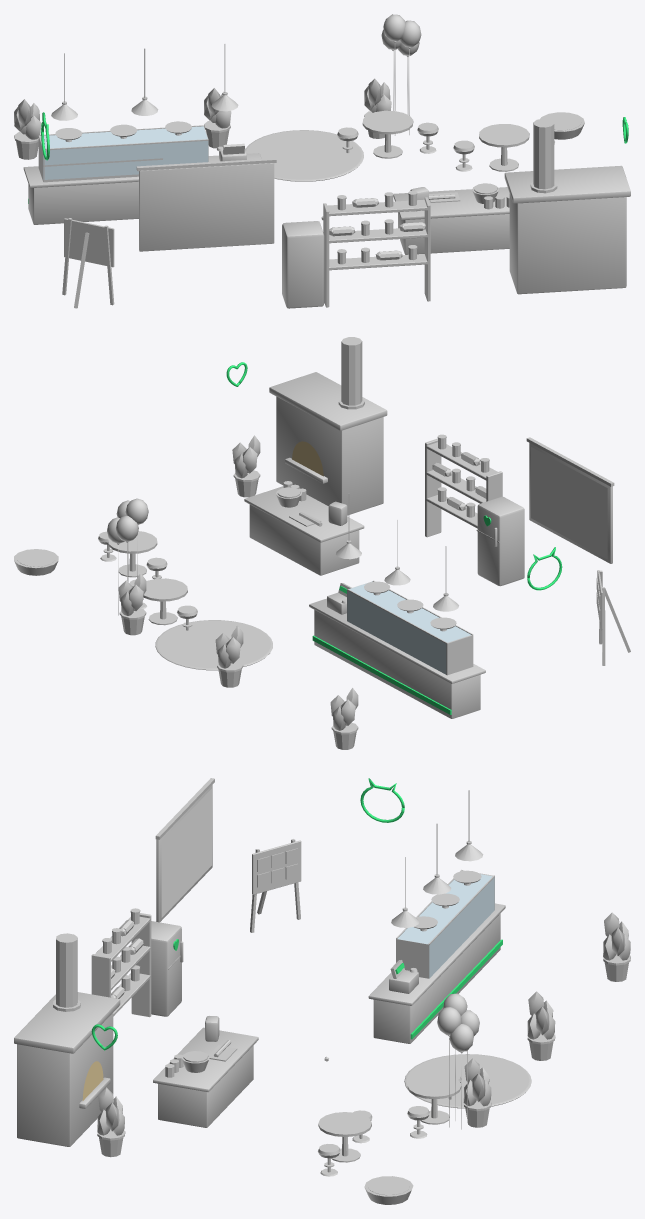
File: zon_room_bakery.glb
The picture shows the model from 3 angles, top to bottom: view 1: azimuth 30°, elevation 25°; view 2: azimuth 150°, elevation 25°; view 3: azimuth 270°, elevation 25°; orthographic projection. The views are drawn at different scales.
Parts seen in each view (by area): view 1: SM_zon_room_bakery_kit_interior_xm1_z1, SM_zon_room_bakery_bakery_glass_xm1_z1, ANIM_fur_bk_decor_plant_2__0, ANIM_fur_bk_decor_plant_1__0, ANIM_fur_bk_decor_plant_0__0, ANIM_fur_bk_decor_basket__0, ANIM_fur_bk_decor_balloon_3__0, ANIM_fur_bk_decor_balloon_2__0; view 2: SM_zon_room_bakery_kit_interior_xm1_z1, SCREEN_fur_bk_menu__0, SM_zon_room_bakery_bakery_glass_xm1_z1, SM_zon_room_bakery_bakery_neon_xm1_z1, ANIM_fur_bk_decor_plant_0__0, ANIM_fur_bk_decor_plant_3__0, ANIM_fur_bk_decor_plant_1__0, ANIM_fur_bk_decor_plant_2__0, ANIM_fur_bk_decor_basket__0, SM_zon_room_bakery_glow_vc_xm1_z1; view 3: SM_zon_room_bakery_kit_interior_xm1_z1, SCREEN_fur_bk_menu__0, SM_zon_room_bakery_bakery_glass_xm1_z1, ANIM_fur_bk_decor_plant_1__0, ANIM_fur_bk_decor_plant_3__0, ANIM_fur_bk_decor_plant_2__0, ANIM_fur_bk_decor_plant_0__0, SM_zon_room_bakery_bakery_neon_xm1_z1, ANIM_fur_bk_decor_basket__0, ANIM_fur_bk_decor_balloon_2__0, ANIM_fur_bk_decor_balloon_0__0.
Boxes of the visible parts, x1,y1,x2,y2 form: SM_zon_room_bakery_kit_interior_xm1_z1: [23, 44, 630, 308]; SM_zon_room_bakery_bakery_glass_xm1_z1: [40, 126, 208, 179]; ANIM_fur_bk_decor_plant_2__0: [14, 99, 41, 159]; ANIM_fur_bk_decor_plant_1__0: [204, 88, 231, 148]; ANIM_fur_bk_decor_plant_0__0: [364, 78, 391, 138]; ANIM_fur_bk_decor_basket__0: [540, 112, 584, 139]; ANIM_fur_bk_decor_balloon_3__0: [383, 14, 405, 135]; ANIM_fur_bk_decor_balloon_2__0: [399, 20, 421, 134]; SM_zon_room_bakery_kit_interior_xm1_z1: [98, 337, 630, 718]; SCREEN_fur_bk_menu__0: [531, 447, 607, 559]; SM_zon_room_bakery_bakery_glass_xm1_z1: [347, 581, 470, 674]; SM_zon_room_bakery_bakery_neon_xm1_z1: [312, 515, 562, 714]; ANIM_fur_bk_decor_plant_0__0: [118, 573, 146, 635]; ANIM_fur_bk_decor_plant_3__0: [232, 435, 260, 497]; ANIM_fur_bk_decor_plant_1__0: [215, 625, 243, 687]; ANIM_fur_bk_decor_plant_2__0: [330, 688, 358, 749]; ANIM_fur_bk_decor_basket__0: [14, 549, 58, 575]; SM_zon_room_bakery_glow_vc_xm1_z1: [292, 441, 323, 476]; SM_zon_room_bakery_kit_interior_xm1_z1: [14, 778, 531, 1176]; SCREEN_fur_bk_menu__0: [161, 789, 211, 917]; SM_zon_room_bakery_bakery_glass_xm1_z1: [397, 874, 494, 978]; ANIM_fur_bk_decor_plant_1__0: [527, 991, 555, 1060]; ANIM_fur_bk_decor_plant_3__0: [97, 1087, 125, 1157]; ANIM_fur_bk_decor_plant_2__0: [603, 912, 630, 981]; ANIM_fur_bk_decor_plant_0__0: [463, 1058, 491, 1127]; SM_zon_room_bakery_bakery_neon_xm1_z1: [173, 778, 502, 1039]; ANIM_fur_bk_decor_basket__0: [364, 1176, 413, 1204]; ANIM_fur_bk_decor_balloon_2__0: [437, 1007, 461, 1127]; ANIM_fur_bk_decor_balloon_0__0: [449, 1023, 473, 1129].
Bounding box in the file's own units: 15.43 × 4.26 × 13.77.
